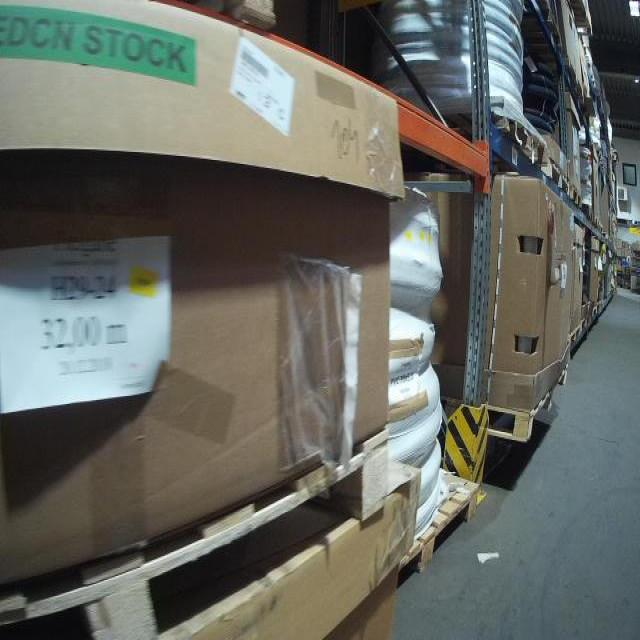pallet: (1, 426, 389, 638), (391, 457, 479, 584), (439, 109, 545, 165), (488, 388, 572, 438), (518, 1, 563, 53), (540, 147, 569, 199), (567, 180, 584, 211), (565, 319, 584, 346)
